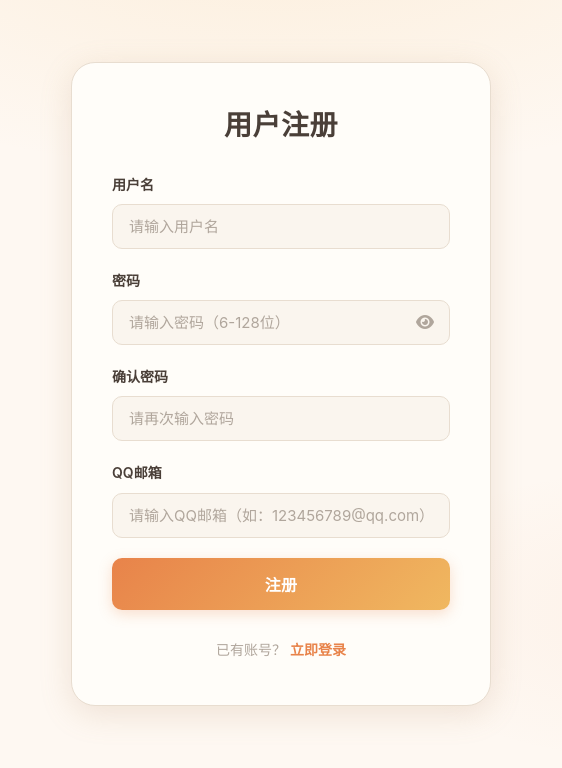
Test: auth field validation accessibility › uses the same register validators on blur and submit
Type "not-qq@example.com" into the field with id "email" at (281, 515), box [112,492,450,538]
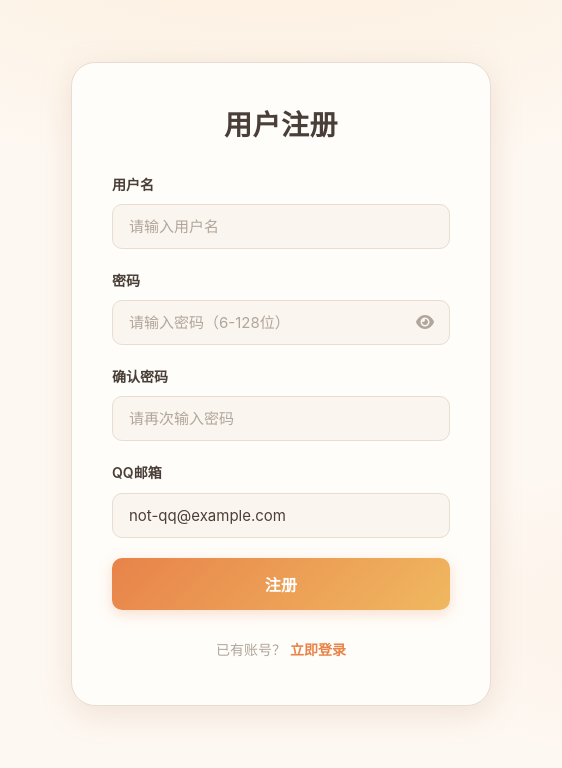
Leave the field with id "email", box [112,492,450,538]
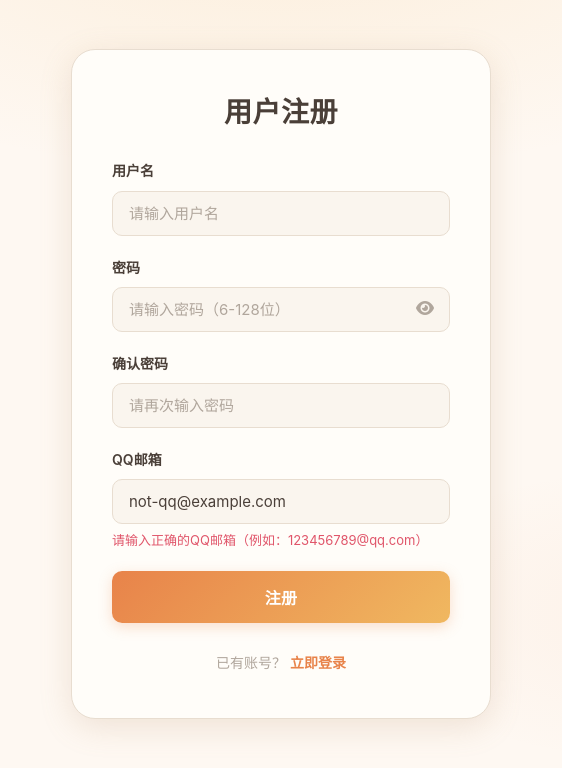
Check: the text with id "email-error" reads "请输入正确的QQ邮箱（例如：123456789@qq.com）", box [112,532,428,548]
Replace the text in the field with id "email" with "123456@qq.com" at (281, 501), box [112,479,450,524]
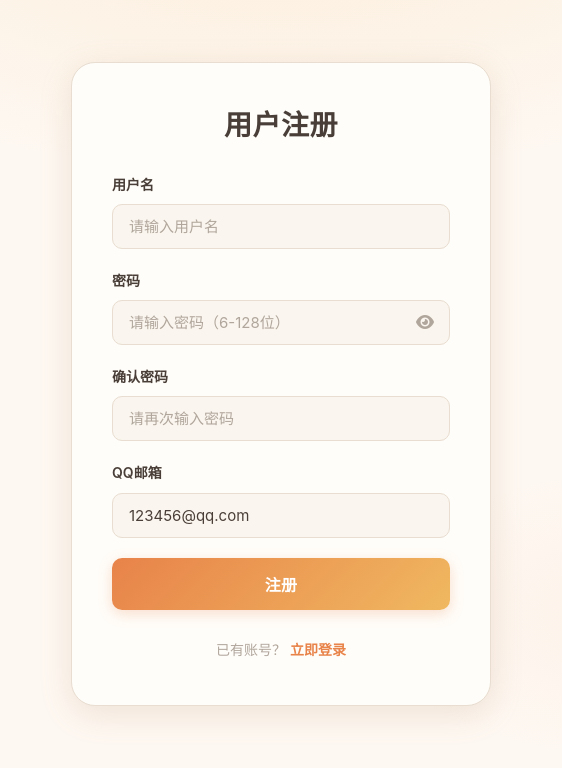
Type "password123" into the password field labelled "密码" at (281, 323), box [112,300,450,345]
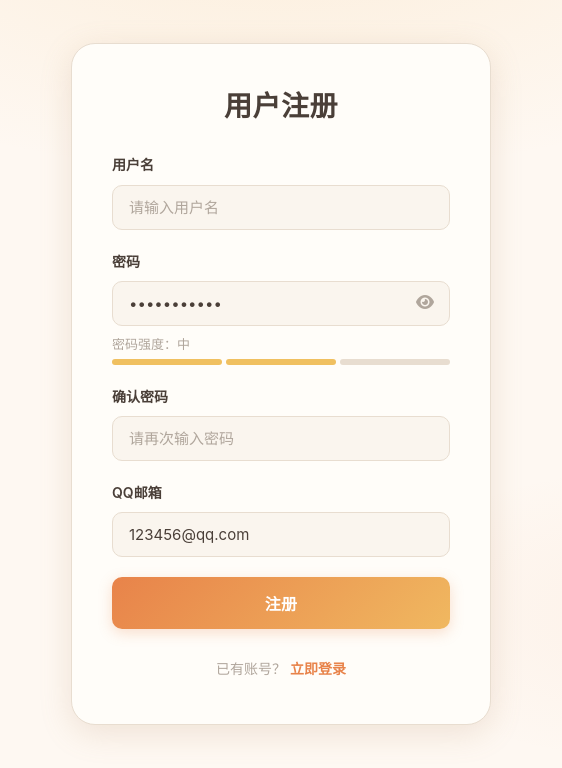
Type "different" into the password field with id "confirmPassword" at (281, 439), box [112,416,450,461]
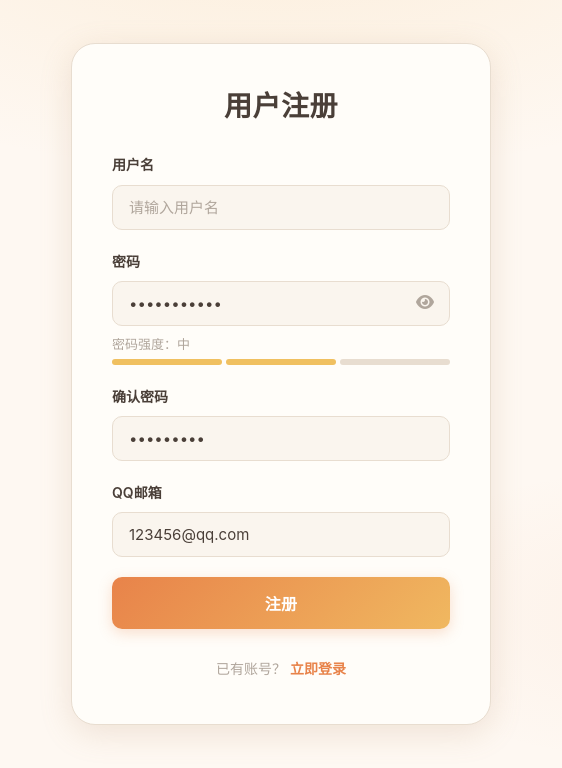
Submit the form, box [112,153,450,629]
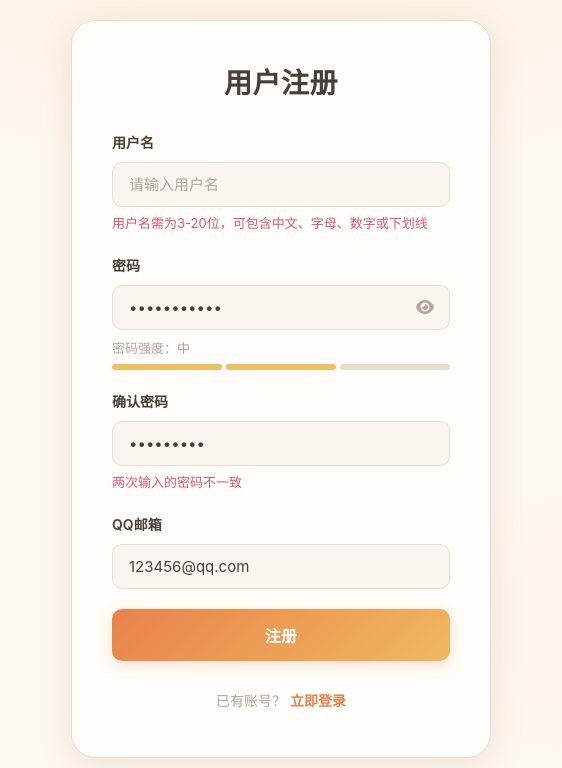
Check: the text with id "confirmPassword-error" reads "两次输入的密码不一致", box [112,474,242,490]
